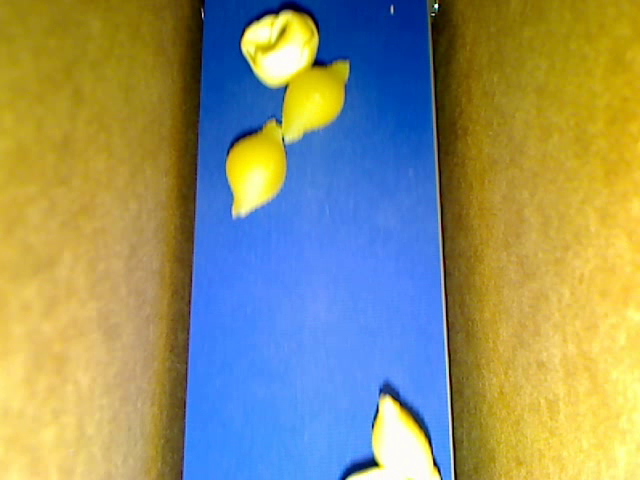shell: (224, 117, 286, 217), (280, 60, 351, 145), (371, 394, 432, 479)
tortellini: (241, 10, 318, 87)
